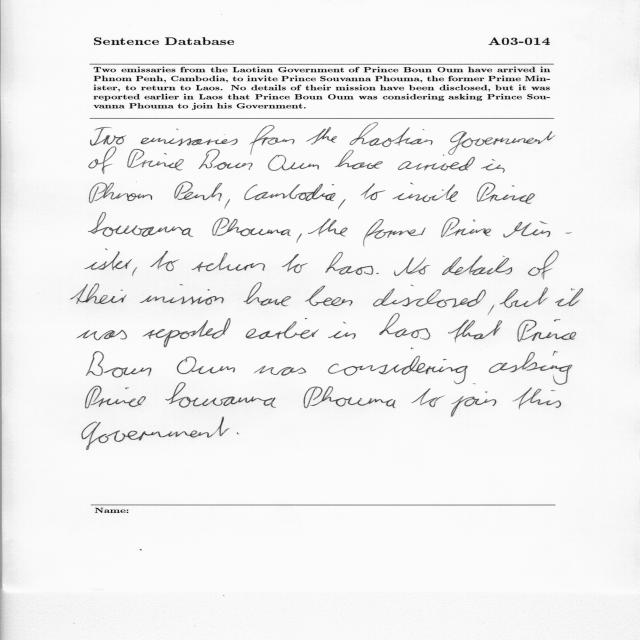word: (328, 348, 467, 384), (82, 417, 230, 450), (489, 351, 572, 385), (165, 383, 276, 408), (89, 212, 194, 237), (373, 285, 486, 308), (448, 131, 555, 155), (143, 318, 231, 347), (350, 122, 433, 147), (304, 386, 396, 408), (86, 351, 152, 378), (363, 219, 426, 247), (140, 284, 224, 305), (140, 129, 238, 146), (244, 184, 336, 201), (245, 318, 319, 339), (451, 383, 496, 417), (212, 218, 291, 236), (85, 386, 146, 409), (442, 256, 512, 276), (192, 253, 265, 272), (380, 313, 431, 340), (518, 319, 577, 342), (250, 125, 295, 155), (90, 183, 153, 204), (398, 154, 475, 171), (477, 182, 535, 204), (392, 183, 458, 202), (448, 320, 502, 343), (127, 149, 184, 170), (503, 221, 572, 238), (243, 283, 291, 307), (70, 284, 127, 304), (199, 149, 253, 170), (326, 252, 374, 275), (513, 388, 562, 410), (177, 357, 235, 375), (499, 287, 548, 308), (441, 218, 491, 238), (85, 249, 132, 270), (306, 286, 353, 306), (528, 250, 559, 280), (335, 150, 383, 169), (174, 182, 222, 201), (268, 155, 319, 171), (89, 147, 116, 174), (308, 219, 348, 237), (394, 257, 431, 276), (91, 127, 126, 146), (411, 389, 445, 408), (150, 251, 179, 271), (306, 127, 337, 145), (254, 366, 306, 376), (555, 289, 583, 307), (282, 254, 308, 273), (78, 330, 127, 340), (328, 322, 356, 339), (361, 183, 386, 200), (481, 159, 505, 173), (339, 199, 346, 209), (224, 199, 230, 209), (488, 305, 494, 315), (296, 234, 302, 243), (133, 267, 138, 276), (237, 432, 239, 434), (376, 273, 379, 274)
